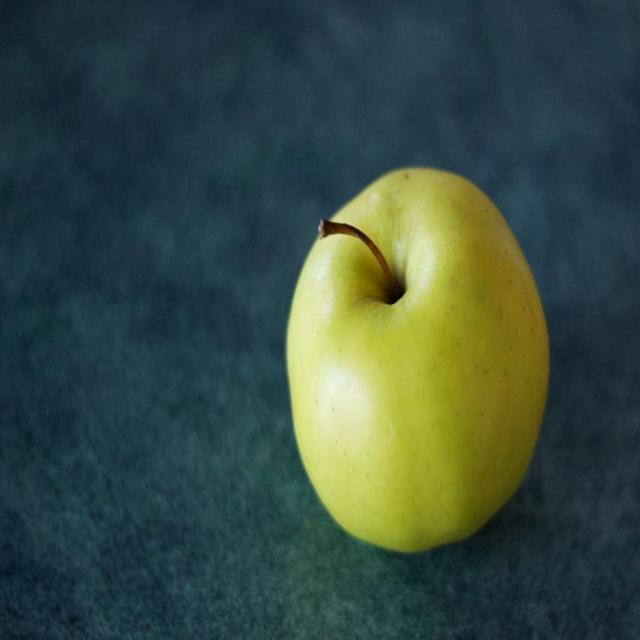Apple: (288, 168, 550, 554)
